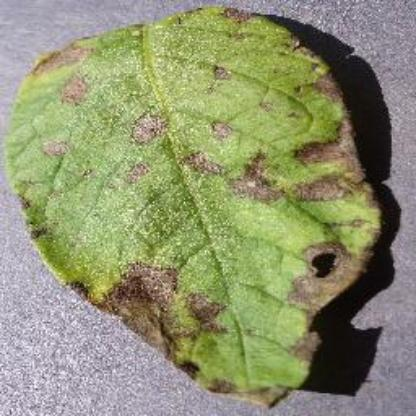Early-Blight: (10, 6, 392, 404)
